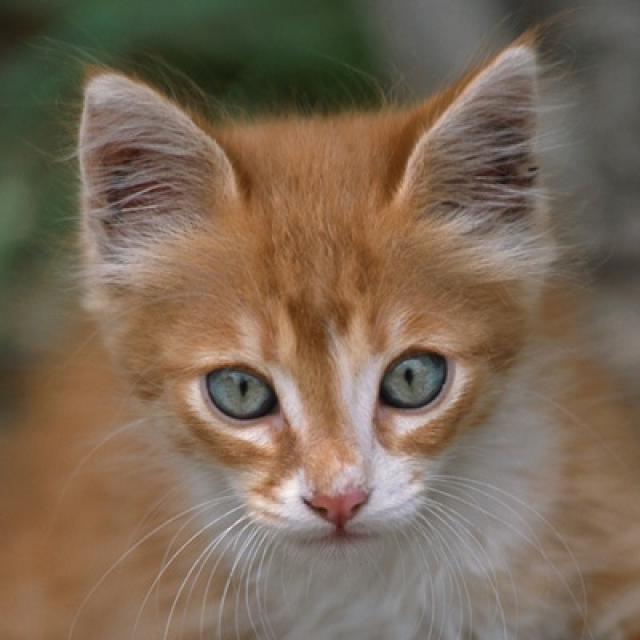cat: (48, 24, 619, 603)
